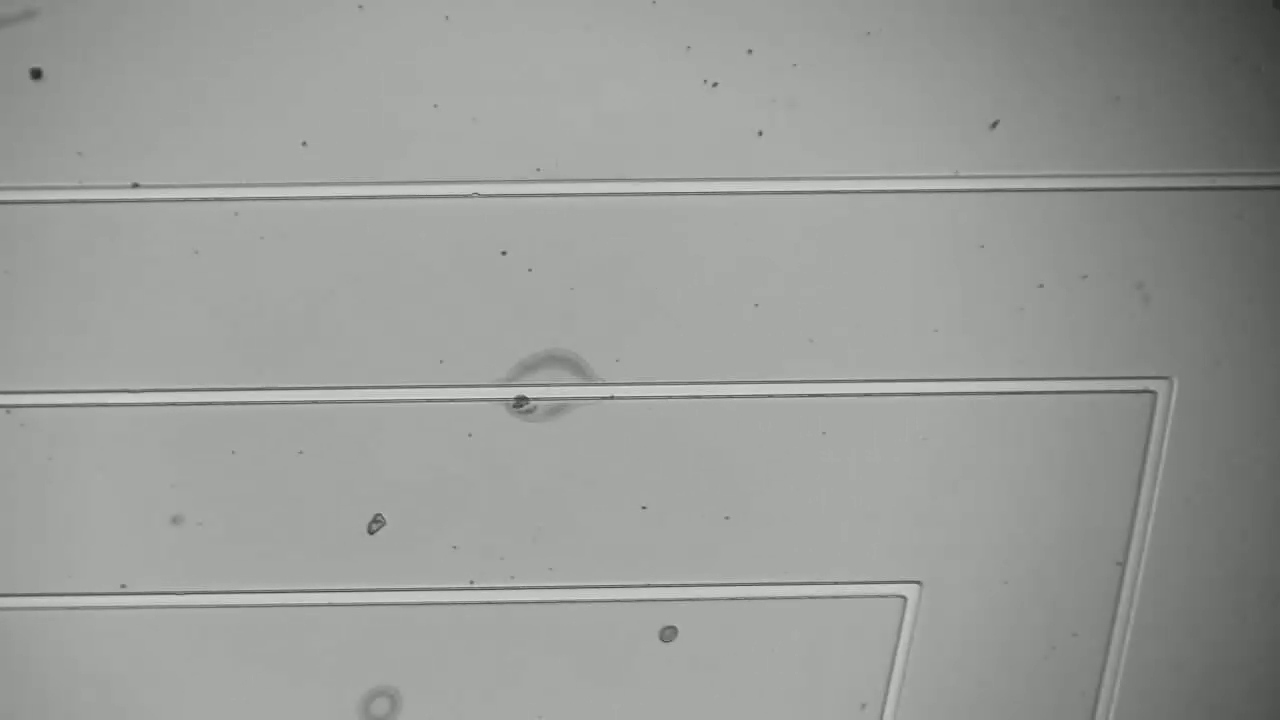stains_enbedded: (508, 375, 541, 416)
